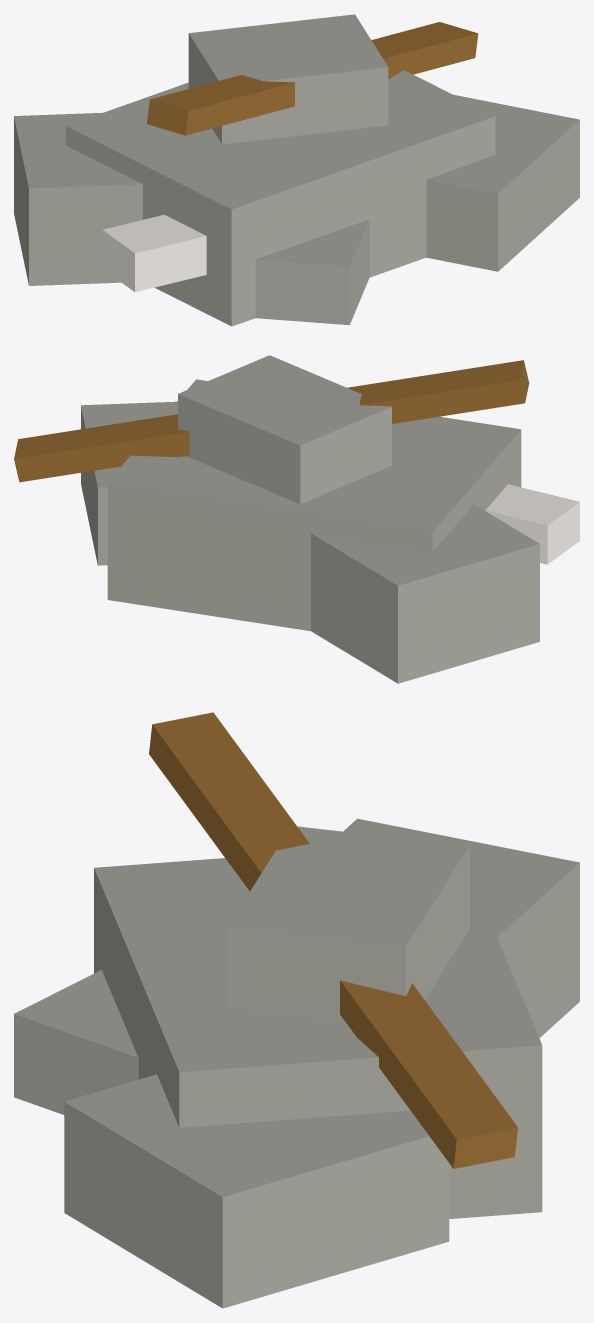
File: SM_KitSueltas_v6_LOD0.fbx
3 views of the same model, one above another, from view 1: azimuth 30°, elevation 25°; view 2: azimuth 150°, elevation 25°; view 3: azimuth 270°, elevation 25° (orthographic). The views are drawn at different scales.
Visible parts, largest first — view 1: SM_bloques.kit_sueltas_v6_LOD0; view 2: SM_bloques.kit_sueltas_v6_LOD0; view 3: SM_bloques.kit_sueltas_v6_LOD0.
Boxes of the visible parts, x1,y1,x2,y2 form: SM_bloques.kit_sueltas_v6_LOD0: [14, 14, 579, 326]; SM_bloques.kit_sueltas_v6_LOD0: [14, 355, 579, 683]; SM_bloques.kit_sueltas_v6_LOD0: [14, 712, 579, 1308].
Size of the model in its own units: 2.7 by 1.06 by 1.84.
